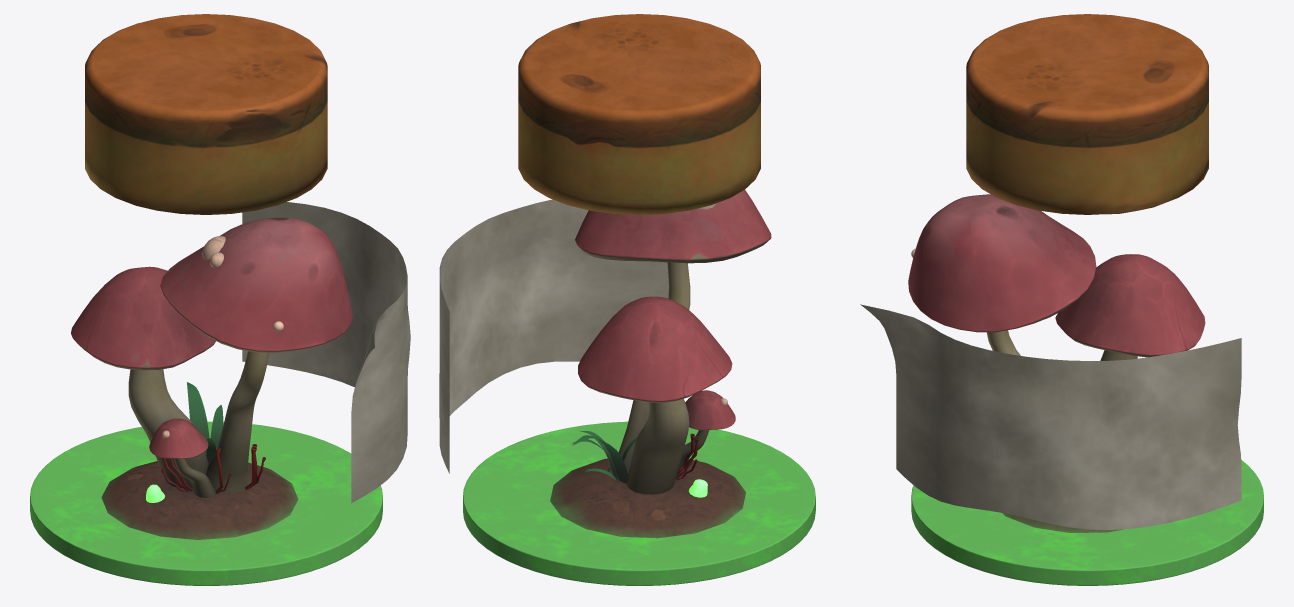
The model's file is mushroom_bottle.glb.
The picture shows the model from 3 angles, left to right: view 1: azimuth 30°, elevation 25°; view 2: azimuth 150°, elevation 25°; view 3: azimuth 270°, elevation 25°; orthographic projection.
Parts seen in each view (by area): view 1: top_low, dno_low, name_low, grib1_low, graund_low, grib3_low, noga1_low, noga3_low, grib2_low, noga2_low, trawa2_low; view 2: top_low, dno_low, name_low, grib3_low, graund_low, grib1_low, noga3_low, noga1_low, grib2_low, trawa2_low; view 3: name_low, top_low, dno_low, grib1_low, grib3_low, graund_low.
Boxes of the visible parts, x1,y1,x2,y2 form: top_low: (85, 14, 327, 214); dno_low: (30, 421, 382, 585); name_low: (242, 202, 410, 503); grib1_low: (160, 217, 352, 352); graund_low: (101, 461, 298, 539); grib3_low: (71, 266, 215, 370); noga1_low: (206, 351, 269, 492); noga3_low: (128, 369, 208, 487); grib2_low: (149, 418, 208, 458); noga2_low: (174, 458, 215, 497); trawa2_low: (187, 382, 209, 454); top_low: (518, 14, 760, 214); dno_low: (463, 421, 815, 585); name_low: (439, 199, 668, 473); grib3_low: (578, 296, 732, 402); graund_low: (550, 458, 745, 538); grib1_low: (575, 189, 771, 263); noga3_low: (626, 398, 689, 494); noga1_low: (607, 262, 690, 473); grib2_low: (685, 390, 735, 430); trawa2_low: (572, 435, 628, 483); name_low: (860, 304, 1241, 529); top_low: (966, 14, 1208, 214); dno_low: (911, 460, 1263, 585); grib1_low: (908, 194, 1096, 332); grib3_low: (1055, 254, 1205, 357); graund_low: (1002, 513, 1123, 532).
Size of the model in its own units: 1.2 by 1.52 by 1.28.
Materials: 2 (2 with a texture image).
